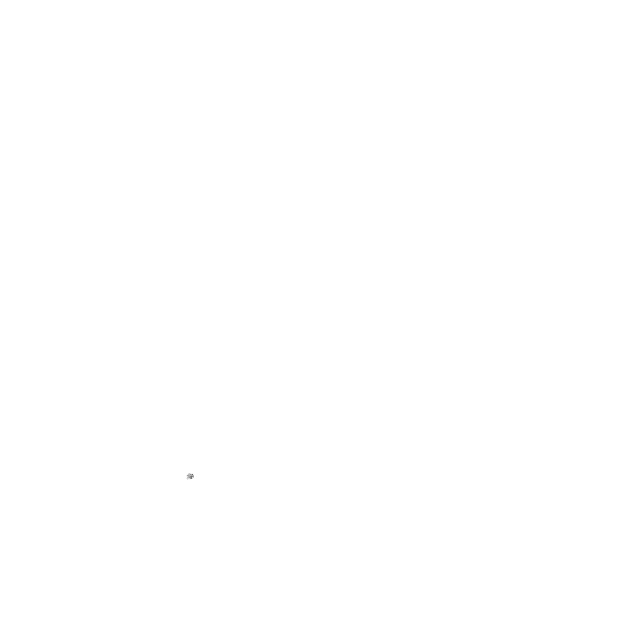enseble_chain: (186, 473, 193, 481), (187, 473, 194, 480), (189, 474, 195, 480), (188, 474, 194, 479), (189, 475, 195, 480), (188, 475, 193, 480), (189, 475, 194, 480)
